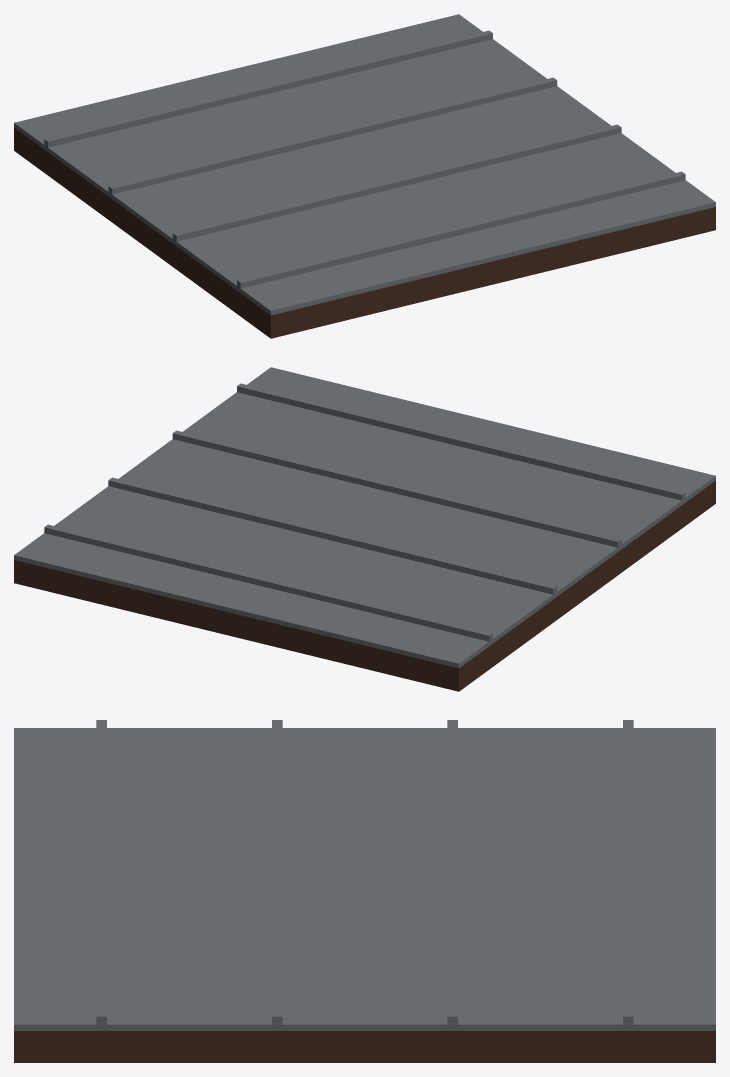
Rendered from LeadFlat__Deck.fbx.
3 views of the same model, one above another, from view 1: azimuth 30°, elevation 25°; view 2: azimuth 150°, elevation 25°; view 3: azimuth 270°, elevation 25° (orthographic). The views are drawn at different scales.
Visible parts, largest first — view 1: LeadFlat__Deck; view 2: LeadFlat__Deck; view 3: LeadFlat__Deck.
Part boxes in pixels (<box>): LeadFlat__Deck: <box>14,14,715,338</box>; LeadFlat__Deck: <box>14,367,715,691</box>; LeadFlat__Deck: <box>14,720,715,1062</box>.
Size of the model in its own units: 400 by 29 by 400.
1 material, 1 textured.
